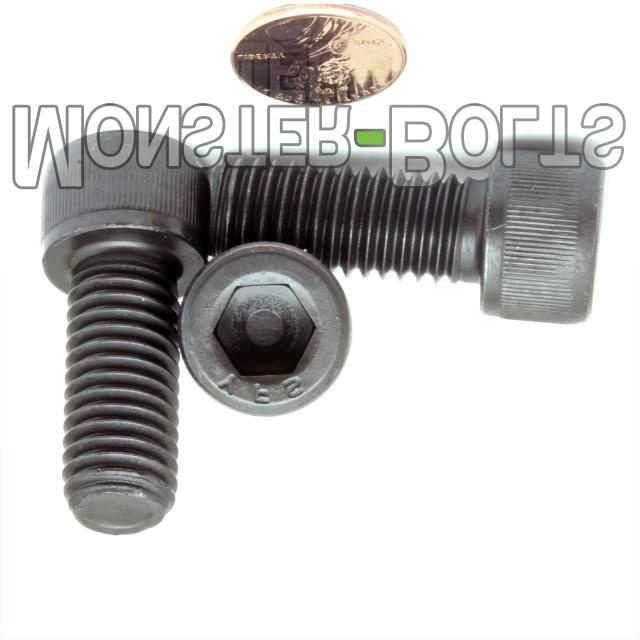allen: (213, 282, 315, 381)
